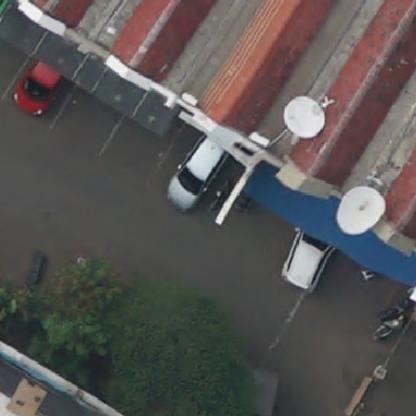car: (168, 139, 224, 207), (13, 57, 66, 117), (279, 227, 324, 292)
motorcycle: (367, 314, 409, 343), (377, 296, 413, 317), (214, 179, 231, 215)
